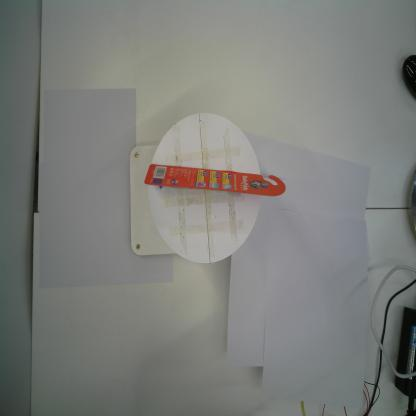Personal Hygiene: (144, 163, 286, 197)
